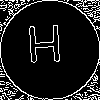H: (25, 25, 64, 73)
